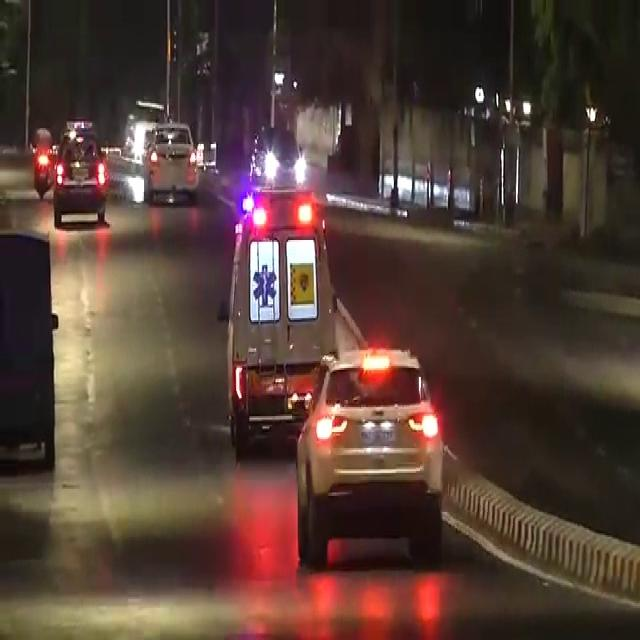ambulance: (212, 180, 332, 426)
